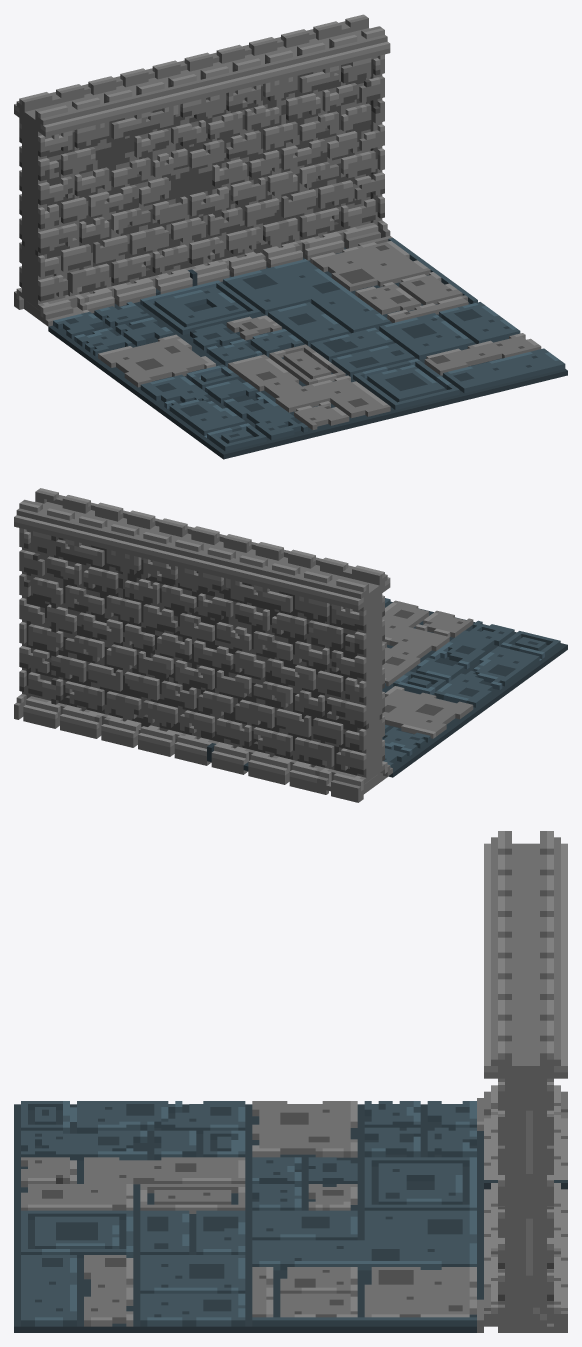
Rendered from wall_E_solo.obj.
The picture shows the model from 3 angles, top to bottom: view 1: azimuth 30°, elevation 25°; view 2: azimuth 150°, elevation 25°; view 3: azimuth 270°, elevation 25°; orthographic projection. The views are drawn at different scales.
Size of the model in its own units: 75 by 44 by 79.
1 material, 1 textured.
